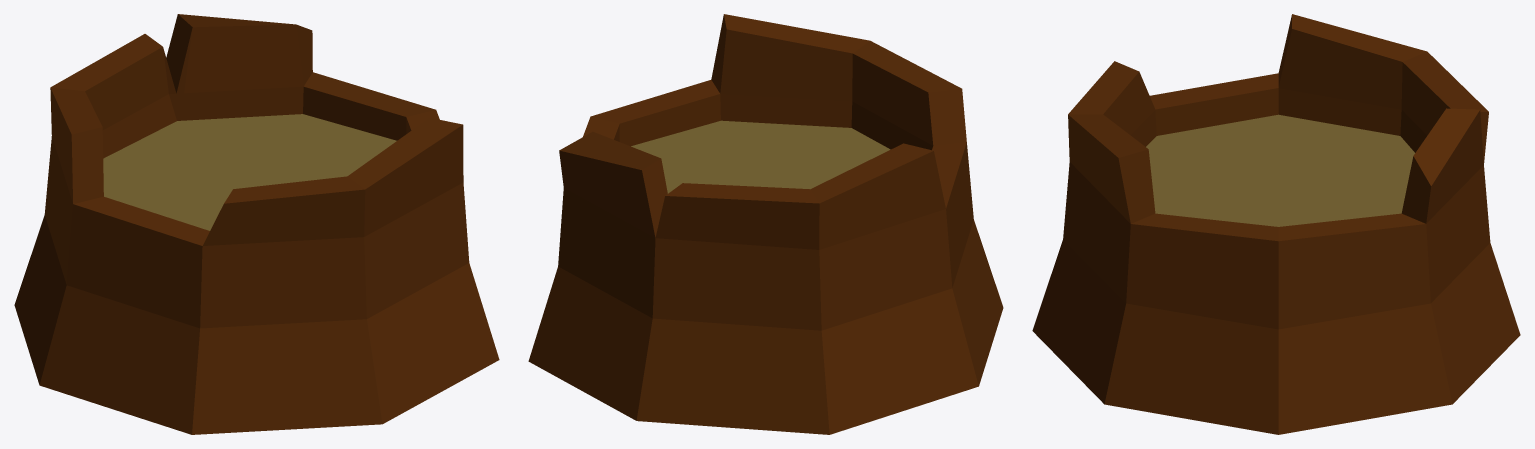
File: stump.glb
The picture shows the model from 3 angles, left to right: view 1: azimuth 30°, elevation 25°; view 2: azimuth 150°, elevation 25°; view 3: azimuth 270°, elevation 25°; orthographic projection. The views are drawn at different scales.
Parts seen in each view (by area): view 1: stump; view 2: stump; view 3: stump.
Part boxes in pixels (<box>): stump: <box>14,14,499,434</box>; stump: <box>528,14,1003,434</box>; stump: <box>1032,14,1520,434</box>.
Bounding box in the file's own units: 0.2882 × 0.1503 × 0.2858.
